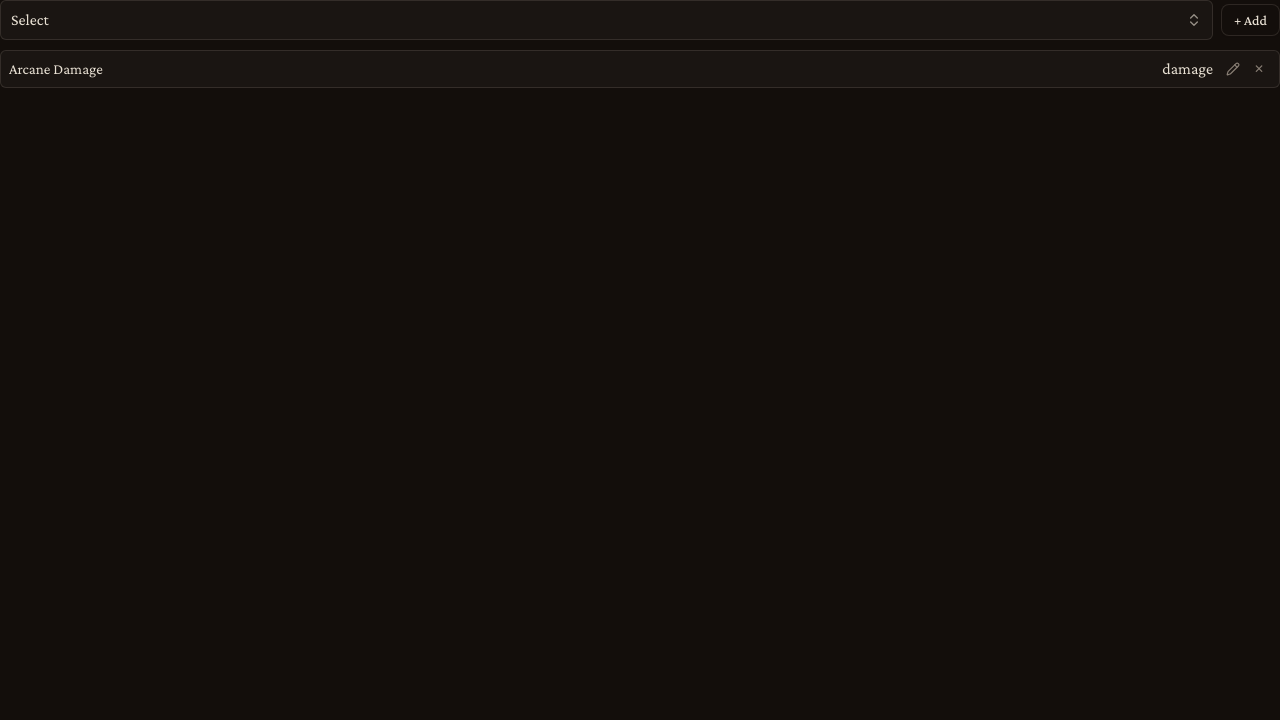
LinkedEntityPicker › filters already linked options when duplicates are disallowed
This screenshot has width=1280, height=720.
Click the dropdown with test id "picker". click: (30,20)
box: [0,0,1213,40]
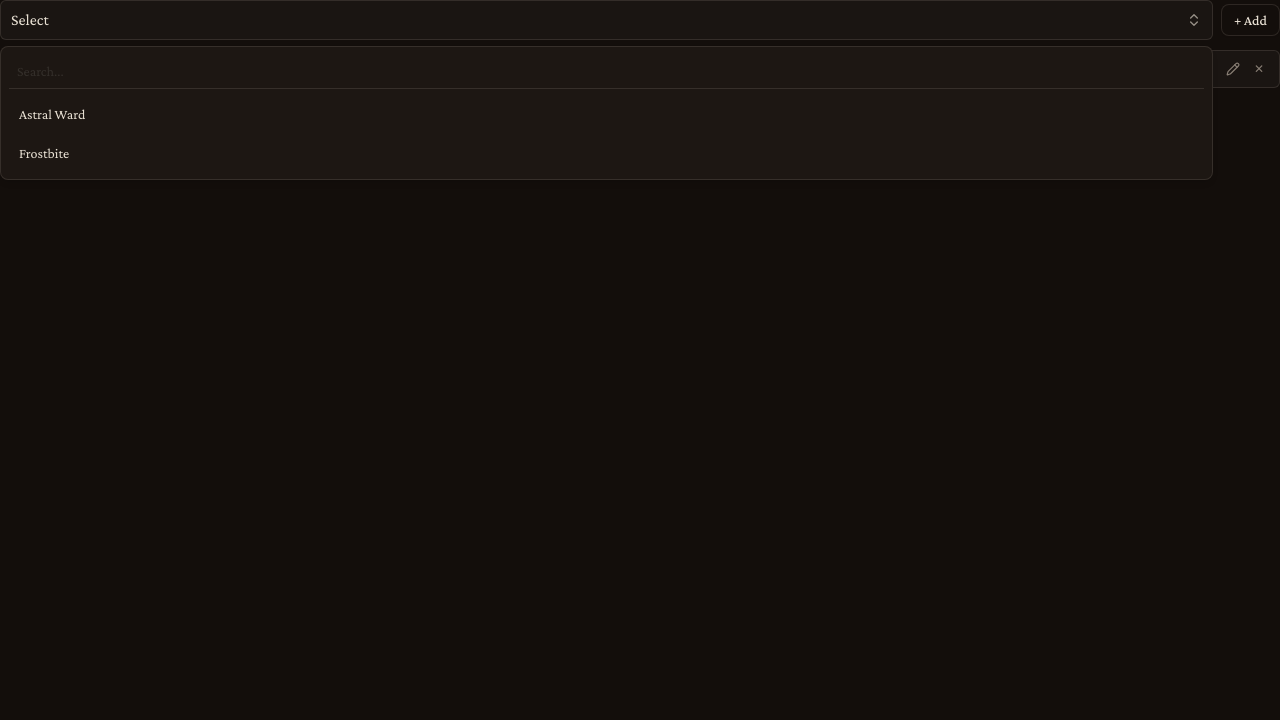
Expected: the option with test id "picker-option-2" is shown, [9,97,1204,132]
